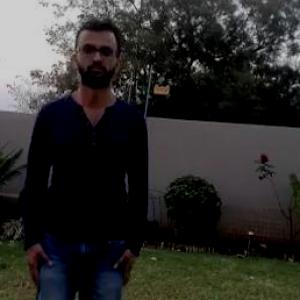follow: (36, 56, 142, 299)
